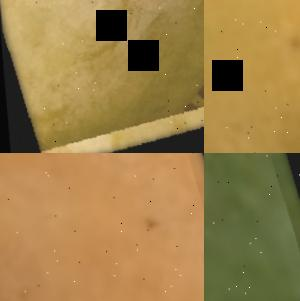PartiallyRipe: (204, 0, 300, 153)
Ripe: (0, 0, 204, 153), (0, 153, 204, 301)
Unripe: (204, 153, 300, 301)
